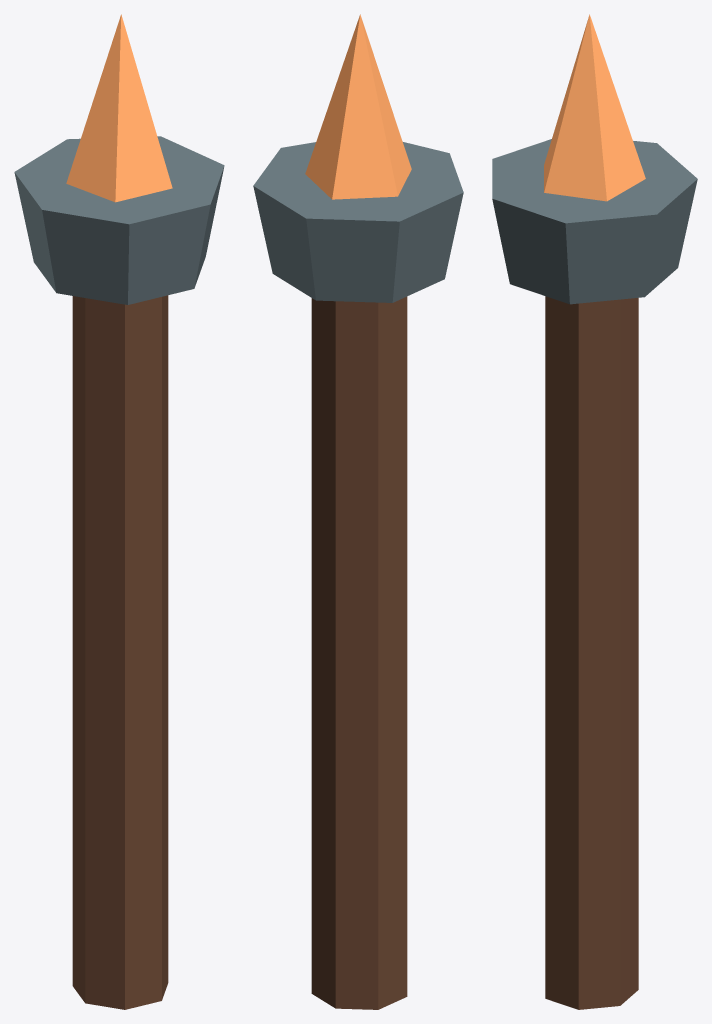
File: torch_post.glb
3 renders of one model, left to right at view 1: azimuth 30°, elevation 25°; view 2: azimuth 150°, elevation 25°; view 3: azimuth 270°, elevation 25°, orthographic.
Visible parts, largest first — view 1: torch_post; view 2: torch_post; view 3: torch_post.
Part boxes in pixels (<box>): torch_post: <box>14,14,224,1009</box>; torch_post: <box>253,14,463,1009</box>; torch_post: <box>492,14,697,1009</box>.
Bounding box in the file's own units: 0.429 × 2.19 × 0.4182.
